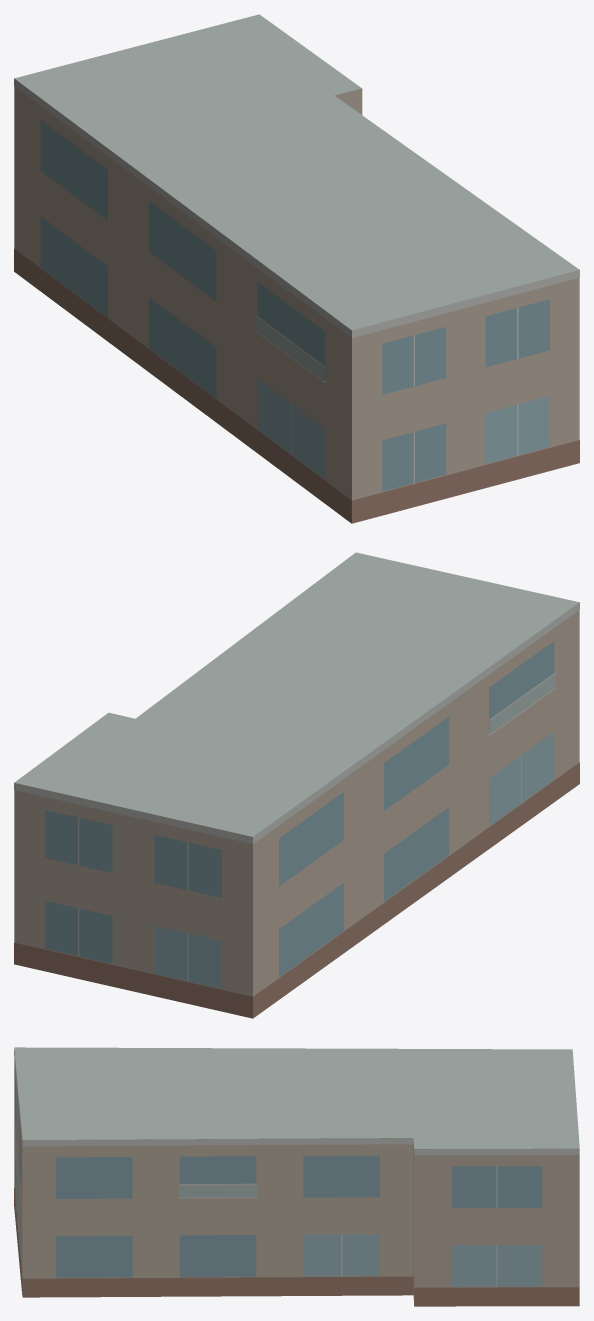
File: survey-upis-32907223.glb
3 renders of one model, top to bottom at view 1: azimuth 30°, elevation 25°; view 2: azimuth 150°, elevation 25°; view 3: azimuth 270°, elevation 25°, orthographic. The views are drawn at different scales.
Parts seen in each view (by area): view 1: survey-upis-32907223.tmp; view 2: survey-upis-32907223.tmp; view 3: survey-upis-32907223.tmp.
Boxes of the visible parts, x1,y1,x2,y2 form: survey-upis-32907223.tmp: [14, 14, 579, 523]; survey-upis-32907223.tmp: [14, 552, 579, 1018]; survey-upis-32907223.tmp: [14, 1047, 579, 1306].
Size of the model in its own units: 8.49 by 6.1 by 19.88.
